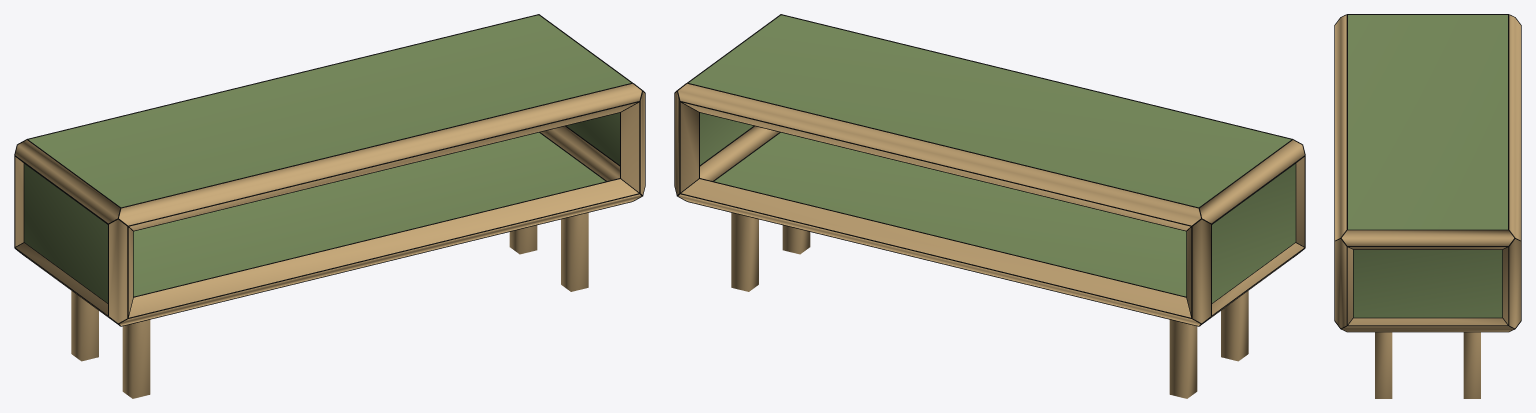
Rendered from 001-banc.glb.
3 renders of one model, left to right at view 1: azimuth 30°, elevation 25°; view 2: azimuth 150°, elevation 25°; view 3: azimuth 270°, elevation 25°, orthographic. The views are drawn at different scales.
Parts seen in each view (by area): view 1: panneau-dessus_exterieur, panneau-dessous, arete-X2, arete-X0, panneau-joue1-0-0, arete-wire-X0, arete-wire-X2, arete-Y2, arete-Z0, pied-pied-0, pied-pied-1, arete-Z1 (+8 smaller); view 2: panneau-dessus_exterieur, panneau-dessous, arete-X3, arete-X1, panneau-joue1-0-0, arete-wire-X1, arete-wire-X3, arete-Y2, arete-Z2, pied-pied-3, pied-pied-2, arete-Z3 (+8 smaller); view 3: panneau-dessus_exterieur, panneau-joue2-0-0, arete-Y3, arete-X2, arete-X3, arete-Y1, arete-Z1, arete-Z3, pied-pied-1, pied-pied-2, arete-wire-Y1, arete-wire-X2 (+6 smaller).
Boxes of the visible parts, left/top/right/bottom form: panneau-dessus_exterieur: left=29, top=15, right=630, bottom=207; panneau-dessous: left=133, top=132, right=605, bottom=296; arete-X2: left=119, top=83, right=641, bottom=230; arete-X0: left=119, top=179, right=641, bottom=325; panneau-joue1-0-0: left=24, top=164, right=107, bottom=302; arete-wire-X0: left=118, top=178, right=642, bottom=326; arete-wire-X2: left=118, top=82, right=642, bottom=231; arete-Y2: left=15, top=140, right=119, bottom=223; arete-Z0: left=109, top=219, right=132, bottom=323; pied-pied-0: left=122, top=320, right=150, bottom=398; pied-pied-1: left=561, top=213, right=588, bottom=291; arete-Z1: left=621, top=92, right=644, bottom=194; panneau-dessus_exterieur: left=689, top=15, right=1290, bottom=207; panneau-dessous: left=714, top=132, right=1186, bottom=296; arete-X3: left=678, top=83, right=1200, bottom=230; arete-X1: left=678, top=179, right=1200, bottom=325; panneau-joue1-0-0: left=1212, top=164, right=1295, bottom=302; arete-wire-X1: left=677, top=178, right=1201, bottom=326; arete-wire-X3: left=677, top=82, right=1198, bottom=231; arete-Y2: left=1200, top=140, right=1304, bottom=223; arete-Z2: left=1187, top=219, right=1210, bottom=323; pied-pied-3: left=1169, top=320, right=1197, bottom=398; pied-pied-2: left=731, top=213, right=758, bottom=291; arete-Z3: left=675, top=92, right=698, bottom=194; panneau-dessus_exterieur: left=1348, top=15, right=1507, bottom=229; panneau-joue2-0-0: left=1353, top=250, right=1502, bottom=317; arete-Y3: left=1342, top=230, right=1513, bottom=249; arete-X2: left=1335, top=15, right=1346, bottom=240; arete-X3: left=1509, top=15, right=1520, bottom=240; arete-Y1: left=1342, top=318, right=1513, bottom=331; arete-Z1: left=1335, top=239, right=1352, bottom=328; arete-Z3: left=1503, top=239, right=1520, bottom=328; pied-pied-1: left=1375, top=332, right=1392, bottom=398; pied-pied-2: left=1463, top=332, right=1480, bottom=398; arete-wire-Y1: left=1341, top=318, right=1514, bottom=332; arete-wire-X2: left=1334, top=14, right=1347, bottom=241.
Bounding box in the file's own units: 1.23 × 0.4596 × 0.4309.
